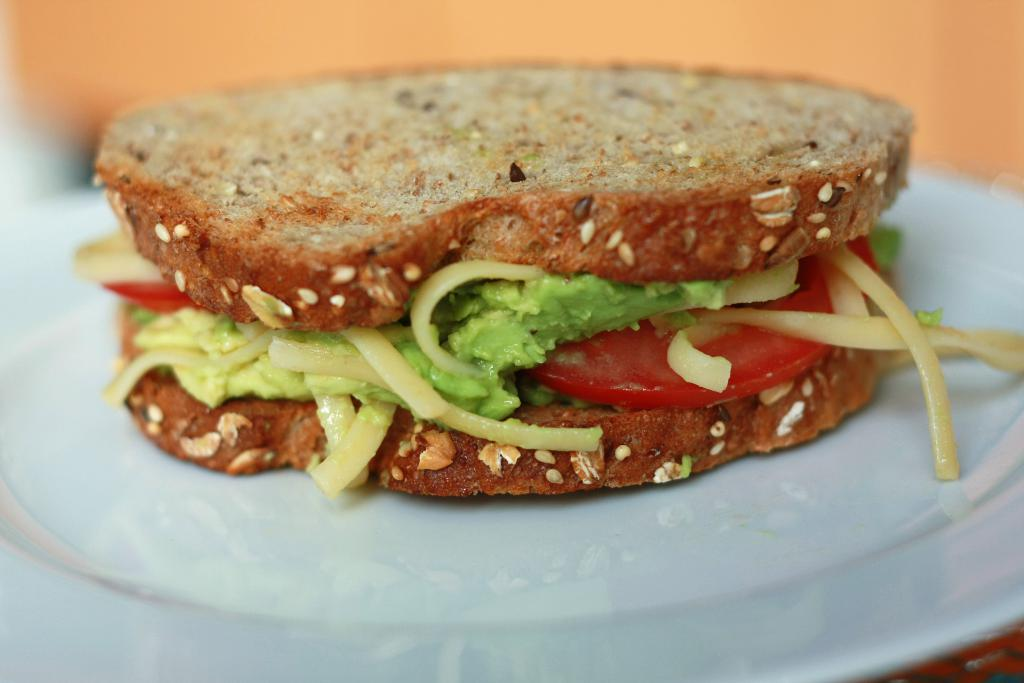Hamburger: (80, 49, 1023, 501)
